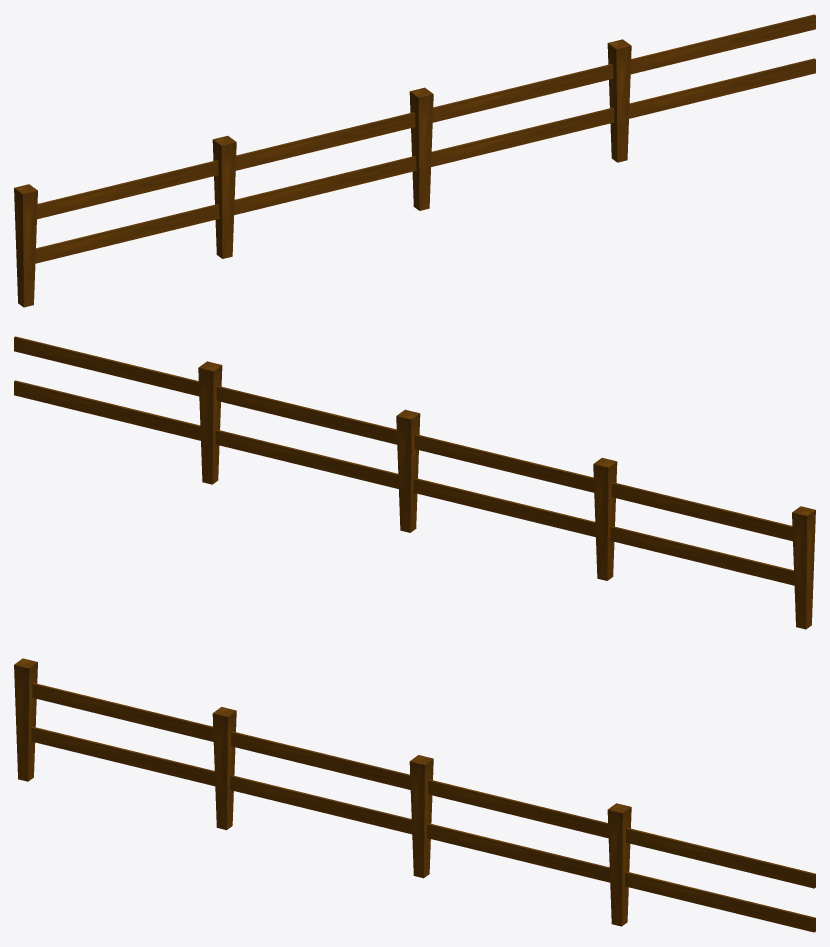
File: fencechainModel.FBX
The picture shows the model from 3 angles, top to bottom: view 1: azimuth 30°, elevation 25°; view 2: azimuth 150°, elevation 25°; view 3: azimuth 330°, elevation 25°; orthographic projection.
Visible parts, largest first — view 1: Box004; view 2: Box004; view 3: Box004.
Boxes of the visible parts, <box> form: Box004: <box>14,14,815,307</box>; Box004: <box>14,336,815,629</box>; Box004: <box>14,658,815,932</box>.
Size of the model in its own units: 92.67 by 12.78 by 1.77.
Materials: 1 (1 with a texture image).
